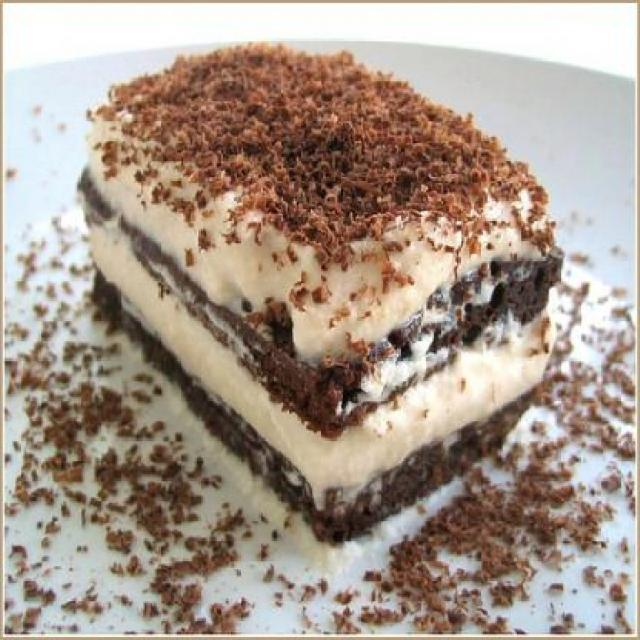Tiramisu: (76, 45, 558, 538)
